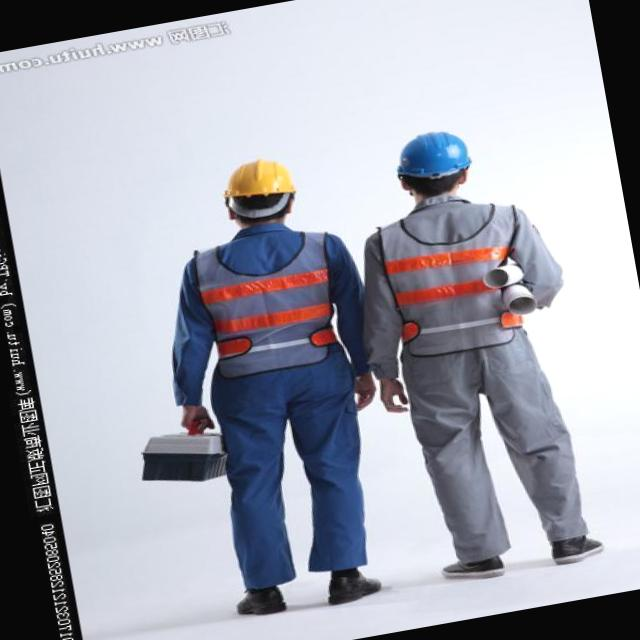boots: (310, 552, 392, 614), (428, 537, 514, 594), (538, 524, 614, 574), (224, 576, 293, 626)
no-gloves: (376, 369, 414, 416), (346, 368, 380, 414), (175, 400, 212, 437)
vest: (367, 187, 546, 370), (180, 215, 358, 392)
